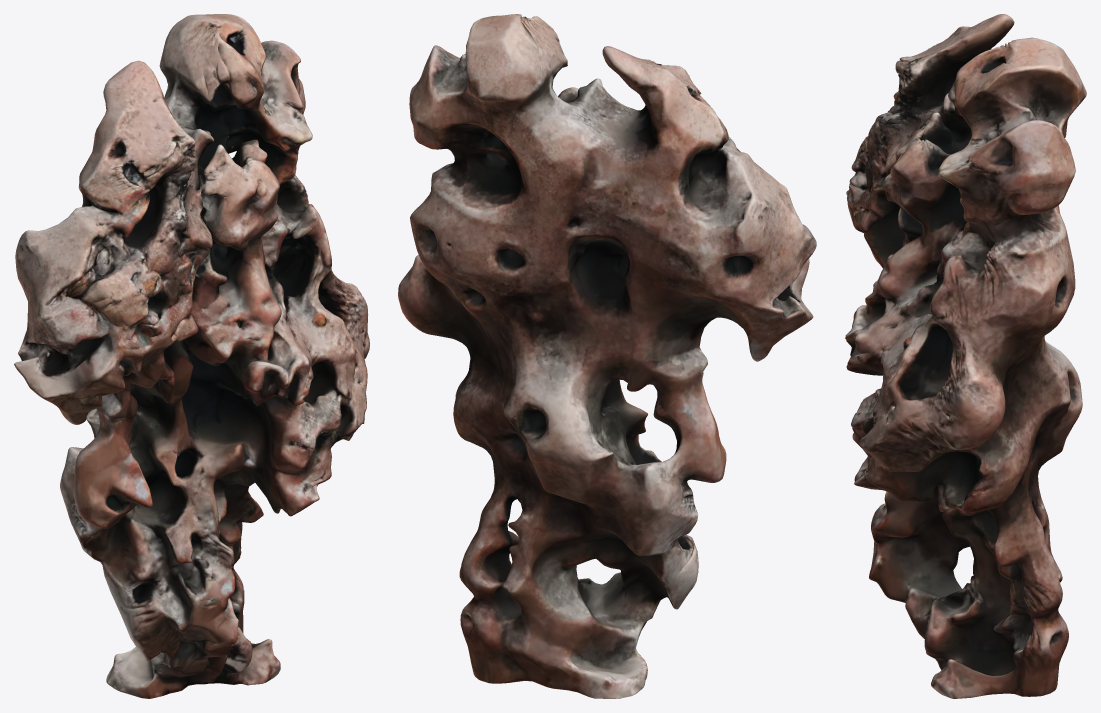
File: autumn_rockery.glb
3 views of the same model, side by side, from view 1: azimuth 30°, elevation 25°; view 2: azimuth 150°, elevation 25°; view 3: azimuth 270°, elevation 25° (orthographic). The views are drawn at different scales.
Parts seen in each view (by area): view 1: tripo_node_8e517b67-e336-466c-b34f-2f2c1090e51f; view 2: tripo_node_8e517b67-e336-466c-b34f-2f2c1090e51f; view 3: tripo_node_8e517b67-e336-466c-b34f-2f2c1090e51f.
Part boxes in pixels (bbox=[...]): tripo_node_8e517b67-e336-466c-b34f-2f2c1090e51f: bbox=[14, 14, 369, 698]; tripo_node_8e517b67-e336-466c-b34f-2f2c1090e51f: bbox=[398, 14, 816, 698]; tripo_node_8e517b67-e336-466c-b34f-2f2c1090e51f: bbox=[845, 14, 1086, 698].
Bounding box in the file's own units: 0.5976 × 0.9787 × 0.3342.
1 material, 1 textured.
